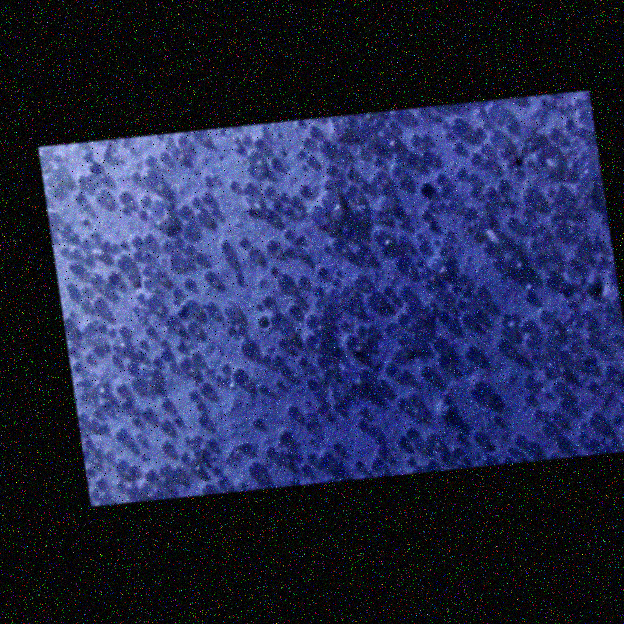GrassBeadSeg: (161, 113, 182, 144), (312, 441, 331, 475), (297, 461, 316, 494), (304, 164, 322, 198), (93, 188, 112, 216), (338, 232, 357, 260), (134, 399, 153, 427), (495, 534, 512, 564), (594, 561, 611, 591), (143, 571, 160, 599), (414, 230, 430, 259), (426, 299, 442, 328), (362, 336, 379, 363), (249, 581, 266, 608), (538, 398, 555, 424), (266, 291, 282, 318), (332, 196, 347, 224), (429, 184, 445, 210), (248, 398, 265, 422), (225, 269, 241, 294), (278, 325, 294, 350), (39, 48, 55, 73), (76, 441, 91, 467), (514, 325, 529, 351), (229, 348, 245, 372), (166, 183, 182, 207), (65, 295, 80, 320), (311, 305, 326, 330), (129, 359, 143, 385), (427, 22, 441, 48), (230, 298, 245, 322), (272, 377, 287, 401), (339, 265, 354, 289), (295, 560, 310, 584), (131, 190, 145, 215), (347, 27, 361, 52), (106, 336, 120, 361), (33, 369, 47, 394), (252, 238, 267, 261), (191, 340, 206, 363), (200, 176, 214, 200), (284, 413, 298, 437), (299, 391, 313, 415), (47, 376, 61, 400), (227, 568, 242, 590), (105, 548, 118, 573), (220, 159, 234, 182), (202, 206, 216, 229), (552, 517, 566, 540), (276, 480, 289, 504), (202, 526, 215, 550), (389, 73, 403, 95), (379, 277, 392, 300), (241, 217, 254, 240), (300, 224, 313, 247), (260, 171, 274, 192), (71, 554, 85, 575), (470, 170, 483, 192), (85, 564, 98, 586), (123, 333, 136, 355), (16, 128, 29, 150), (445, 467, 458, 489), (290, 165, 303, 187), (191, 472, 204, 494), (170, 464, 184, 484), (223, 244, 237, 264), (101, 222, 115, 242), (273, 144, 286, 165), (101, 399, 114, 420), (577, 54, 590, 75), (186, 527, 199, 548), (239, 254, 251, 276), (121, 454, 133, 476), (465, 476, 477, 498), (292, 13, 304, 35), (510, 434, 522, 456), (373, 403, 386, 423), (205, 330, 218, 350), (299, 497, 312, 517), (147, 424, 160, 444), (80, 235, 92, 256), (97, 522, 109, 543), (489, 217, 501, 238), (204, 375, 216, 396), (475, 278, 487, 299), (546, 33, 558, 54), (298, 311, 310, 332), (87, 394, 99, 415), (575, 335, 587, 356), (60, 335, 72, 356), (541, 240, 553, 261), (555, 376, 567, 397), (591, 294, 603, 315), (582, 273, 594, 294), (576, 378, 588, 399), (594, 424, 606, 445), (602, 464, 614, 485), (294, 288, 306, 309), (609, 555, 621, 576), (77, 113, 90, 132), (359, 289, 371, 309), (248, 59, 260, 79), (174, 41, 186, 61), (40, 545, 52, 565), (329, 318, 341, 338), (288, 242, 300, 262), (467, 412, 479, 432), (529, 40, 541, 60), (5, 569, 17, 589), (605, 202, 617, 222), (490, 422, 502, 442), (18, 451, 30, 471), (7, 475, 19, 495), (28, 467, 40, 487), (345, 337, 356, 358), (524, 433, 535, 454), (32, 341, 43, 362), (109, 128, 120, 149), (582, 438, 593, 459), (597, 400, 608, 421), (462, 449, 473, 470), (560, 266, 571, 287), (478, 121, 490, 140), (221, 510, 233, 529), (539, 140, 551, 159), (129, 28, 141, 47), (93, 271, 105, 290), (105, 466, 117, 485), (193, 252, 205, 271), (33, 187, 45, 206), (226, 439, 238, 458), (196, 559, 208, 578), (537, 209, 549, 228), (96, 45, 108, 64), (117, 15, 129, 34), (142, 265, 154, 284), (81, 14, 93, 33), (549, 224, 561, 243), (610, 231, 622, 250), (246, 159, 258, 178), (475, 318, 487, 337), (238, 86, 250, 105), (85, 64, 98, 81), (524, 80, 535, 100), (530, 513, 541, 533), (168, 244, 179, 264), (509, 237, 520, 257), (352, 160, 363, 180), (328, 492, 339, 512), (132, 516, 143, 536), (139, 460, 150, 480), (448, 362, 459, 382), (58, 513, 69, 533), (80, 359, 91, 379), (554, 12, 565, 32), (542, 0, 553, 20), (565, 46, 576, 66), (569, 11, 580, 31), (103, 601, 114, 621), (226, 392, 238, 410), (21, 490, 33, 508), (49, 227, 61, 245), (295, 524, 306, 543), (377, 118, 388, 137), (522, 117, 533, 136), (227, 47, 238, 66), (261, 47, 272, 66), (388, 309, 399, 328), (438, 498, 449, 517), (368, 496, 379, 515), (241, 118, 252, 137), (216, 488, 227, 507), (573, 109, 584, 128), (254, 113, 265, 132), (17, 46, 28, 65), (320, 212, 331, 231), (372, 458, 383, 477), (41, 447, 52, 466), (467, 11, 478, 30), (484, 304, 495, 323), (119, 507, 131, 524), (207, 273, 219, 290), (562, 159, 572, 179), (357, 544, 367, 564), (517, 154, 528, 172), (149, 538, 160, 556), (301, 84, 312, 102), (565, 187, 576, 205), (151, 494, 162, 512), (111, 98, 122, 116), (353, 421, 364, 439), (308, 592, 319, 610), (517, 384, 528, 402), (22, 560, 33, 578), (386, 207, 397, 225), (292, 72, 303, 90), (280, 555, 291, 573), (473, 355, 484, 373), (202, 19, 213, 37), (505, 375, 516, 393), (518, 362, 529, 380), (559, 569, 569, 588), (496, 570, 506, 589), (274, 443, 284, 462), (500, 294, 510, 313), (453, 308, 463, 327), (184, 364, 195, 381), (175, 490, 186, 507), (32, 212, 43, 229), (242, 457, 253, 474), (508, 503, 518, 521), (581, 520, 591, 538), (285, 36, 295, 54), (457, 600, 467, 618), (391, 506, 401, 524), (196, 293, 206, 311), (345, 117, 355, 135), (372, 581, 382, 599), (216, 17, 226, 35), (232, 2, 242, 20), (236, 594, 246, 612), (167, 445, 177, 463), (241, 530, 252, 546), (358, 202, 369, 218), (362, 473, 373, 489), (265, 603, 276, 619), (385, 538, 394, 557), (410, 51, 419, 70), (548, 194, 557, 213), (399, 44, 408, 63), (438, 64, 447, 83), (381, 560, 390, 579), (322, 350, 332, 367), (515, 547, 525, 564), (72, 387, 82, 404), (121, 532, 131, 549), (88, 142, 98, 159), (328, 272, 338, 289), (125, 563, 135, 580), (189, 273, 199, 290), (342, 478, 352, 495), (189, 445, 199, 462), (240, 481, 250, 498), (276, 245, 286, 262), (73, 86, 83, 103), (373, 18, 383, 35), (488, 341, 498, 358), (374, 260, 384, 277), (105, 71, 114, 89), (449, 181, 458, 199), (405, 417, 415, 433), (220, 590, 230, 606), (365, 38, 375, 54), (53, 200, 63, 216), (586, 161, 596, 177), (74, 216, 84, 232), (55, 179, 65, 195), (76, 151, 86, 167), (604, 31, 614, 47), (602, 8, 612, 24), (288, 504, 298, 520), (243, 505, 253, 521), (69, 368, 79, 384), (42, 325, 52, 341), (101, 302, 111, 318), (378, 237, 388, 253), (198, 430, 207, 447), (487, 164, 496, 181), (427, 414, 436, 431), (318, 575, 327, 592), (253, 308, 262, 325), (530, 339, 539, 356), (55, 402, 64, 419), (395, 575, 404, 592), (458, 398, 467, 415), (467, 582, 476, 599), (141, 485, 150, 502), (0, 296, 9, 313), (196, 46, 206, 61), (299, 107, 309, 122), (40, 110, 50, 125), (362, 91, 372, 106), (525, 282, 534, 298), (508, 124, 517, 140), (192, 410, 201, 426), (447, 204, 456, 220), (381, 188, 390, 204), (85, 419, 94, 435), (261, 492, 270, 508), (218, 532, 227, 548), (317, 543, 326, 559), (474, 32, 482, 50), (482, 491, 491, 507), (477, 230, 486, 246), (167, 316, 176, 332), (173, 272, 182, 288), (551, 548, 559, 566), (206, 310, 215, 326), (204, 112, 213, 128), (10, 595, 19, 611), (561, 436, 570, 452), (120, 596, 129, 612), (91, 102, 100, 118), (55, 156, 64, 172), (26, 11, 35, 27), (37, 1, 46, 17), (79, 177, 88, 193), (5, 222, 14, 238), (128, 220, 137, 236), (158, 255, 167, 271), (494, 37, 503, 53), (591, 75, 600, 91), (613, 101, 622, 117), (505, 218, 514, 234), (512, 258, 521, 274), (526, 208, 535, 224), (609, 180, 618, 196), (490, 273, 499, 289), (607, 433, 616, 449), (552, 431, 561, 447), (527, 414, 536, 430), (516, 410, 525, 426), (594, 341, 603, 357), (480, 429, 489, 445), (472, 394, 481, 410), (13, 351, 22, 367), (0, 392, 9, 408), (5, 17, 14, 33), (514, 482, 522, 499), (423, 266, 431, 283), (376, 363, 385, 378), (335, 53, 344, 68), (539, 434, 548, 449), (95, 501, 104, 516), (420, 106, 429, 121), (507, 61, 516, 76), (386, 592, 395, 607), (354, 488, 363, 503), (255, 13, 264, 28), (127, 436, 136, 451), (567, 287, 576, 302), (9, 321, 18, 336), (476, 80, 485, 95), (101, 122, 110, 137), (81, 197, 90, 212), (314, 17, 323, 32), (390, 0, 399, 15), (518, 37, 527, 52), (533, 20, 542, 35), (583, 23, 592, 38), (603, 84, 612, 99), (615, 146, 624, 161), (493, 248, 502, 263), (576, 553, 585, 568), (601, 592, 610, 607), (472, 601, 481, 616), (575, 504, 584, 519), (354, 309, 363, 324), (332, 301, 341, 316), (284, 223, 293, 238), (182, 345, 191, 360), (213, 351, 221, 367), (435, 268, 443, 284), (177, 301, 185, 317), (50, 252, 58, 268), (481, 577, 489, 593), (12, 545, 20, 561), (570, 454, 578, 470), (594, 454, 602, 470), (544, 591, 552, 607), (522, 228, 530, 244), (36, 233, 44, 249), (61, 26, 69, 42), (118, 169, 126, 185), (165, 294, 173, 310), (154, 285, 162, 301), (593, 124, 601, 140), (586, 184, 594, 200), (583, 417, 591, 433), (590, 362, 598, 378), (486, 449, 494, 465), (434, 476, 442, 492), (452, 495, 461, 509), (408, 163, 417, 177), (555, 288, 564, 302), (309, 333, 318, 347), (334, 177, 343, 191), (567, 591, 576, 605), (392, 468, 401, 482), (351, 463, 360, 477), (398, 399, 407, 413), (276, 513, 285, 527), (180, 445, 189, 459), (251, 498, 260, 512), (487, 2, 496, 16), (153, 71, 161, 86), (314, 392, 322, 407), (400, 211, 408, 226), (358, 395, 366, 410), (342, 412, 350, 427), (436, 530, 444, 545), (43, 154, 51, 169), (3, 130, 11, 145), (10, 240, 18, 255), (604, 135, 612, 150), (593, 195, 601, 210), (503, 476, 511, 491), (116, 576, 124, 591), (322, 292, 330, 307), (307, 258, 315, 273), (288, 373, 296, 388), (466, 203, 475, 216), (258, 550, 267, 563), (408, 516, 416, 530), (327, 559, 335, 573), (535, 262, 543, 276), (49, 603, 57, 617), (170, 596, 178, 610), (567, 555, 575, 569), (370, 534, 378, 548), (249, 561, 257, 575), (175, 394, 183, 408), (145, 386, 153, 400), (152, 400, 160, 414), (365, 600, 372, 615), (187, 562, 194, 577), (569, 242, 576, 257), (598, 248, 605, 263), (330, 120, 337, 135), (75, 502, 83, 515), (70, 527, 78, 540), (55, 450, 63, 463), (53, 432, 61, 445), (31, 589, 39, 602), (22, 591, 30, 604), (215, 610, 223, 623), (588, 261, 596, 274), (616, 266, 624, 279), (482, 145, 489, 159), (598, 152, 605, 166), (309, 148, 316, 162), (579, 480, 586, 493), (390, 170, 397, 183), (556, 133, 563, 146), (362, 109, 369, 122), (579, 298, 586, 311), (614, 288, 621, 301), (363, 65, 369, 79), (551, 95, 558, 106), (565, 99, 572, 110), (501, 52, 508, 63), (492, 93, 499, 104), (616, 57, 623, 68), (553, 152, 560, 163), (541, 610, 548, 621), (588, 213, 595, 224), (306, 350, 313, 361), (211, 398, 217, 410), (555, 105, 562, 115), (554, 70, 561, 80), (503, 93, 510, 103), (493, 71, 500, 81), (492, 331, 499, 341), (457, 192, 464, 202), (400, 306, 407, 316), (534, 496, 540, 507), (608, 375, 614, 386), (328, 536, 334, 547), (266, 457, 272, 468), (165, 585, 171, 596), (190, 608, 196, 619), (9, 530, 15, 541), (15, 508, 21, 519), (2, 604, 8, 615), (19, 437, 25, 448), (17, 20, 23, 31), (84, 382, 90, 393), (0, 54, 6, 65), (192, 385, 198, 396), (183, 385, 189, 396), (86, 339, 92, 350), (14, 228, 20, 239), (103, 172, 109, 183), (60, 224, 66, 235), (615, 19, 621, 29), (607, 66, 613, 76), (517, 599, 523, 609), (283, 538, 288, 549), (611, 327, 616, 337), (429, 532, 434, 542), (146, 20, 151, 29), (232, 98, 237, 107), (306, 4, 311, 13), (338, 15, 343, 24), (455, 62, 460, 71), (498, 506, 503, 514), (419, 366, 424, 374), (506, 286, 511, 294), (325, 616, 330, 623), (585, 504, 589, 512), (527, 552, 531, 560), (415, 614, 419, 622), (460, 57, 464, 65), (463, 319, 467, 327), (494, 264, 498, 272), (351, 599, 355, 606), (448, 72, 452, 79), (462, 53, 466, 60), (484, 188, 488, 195), (599, 224, 603, 231), (605, 230, 609, 237), (348, 179, 352, 186)
